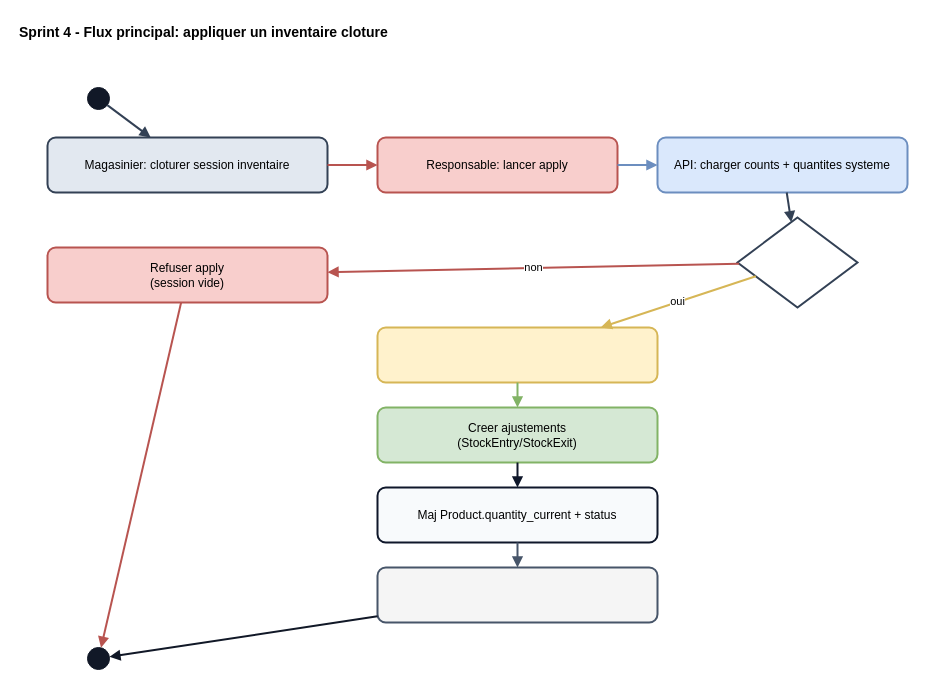
This 925x687 diagram has some shape labels left out. The centre of each missing label's shape, as x and y in pixels:
"Calculer deltas (count - system)" goes at point 517,354.
"Counts existants ?" goes at point 797,262.
"History.append(inventory) + session status=applied" goes at point 517,594.
